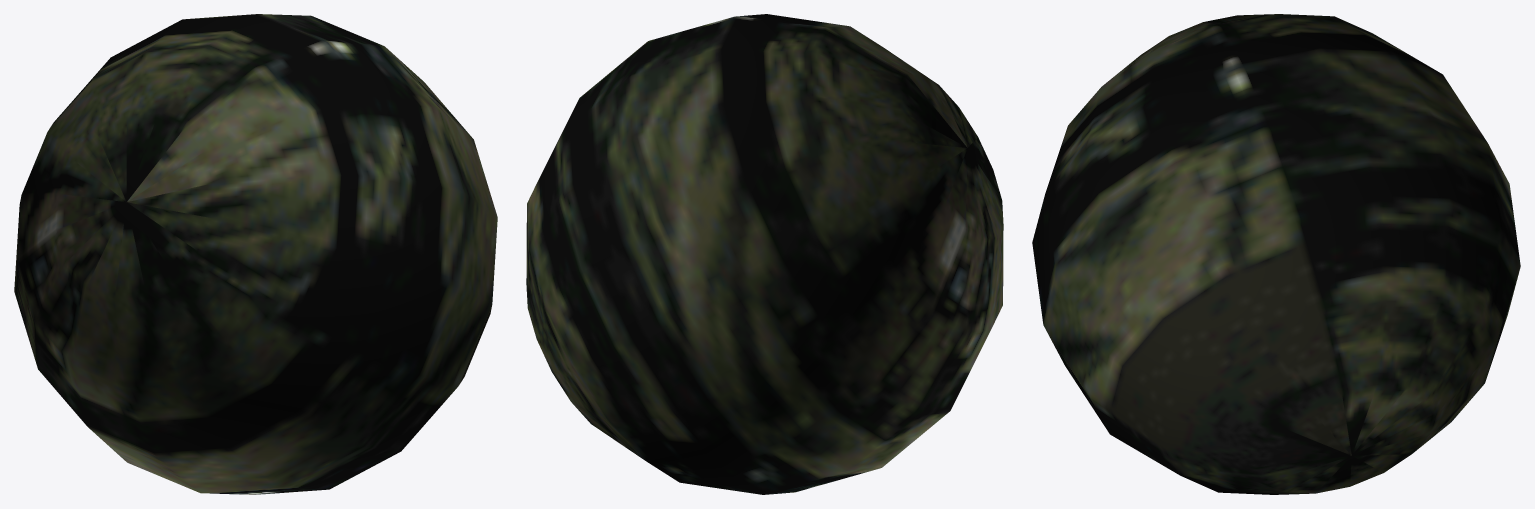
File: slime1.ico.obj
The picture shows the model from 3 angles, left to right: view 1: azimuth 30°, elevation 25°; view 2: azimuth 150°, elevation 25°; view 3: azimuth 270°, elevation 25°; orthographic projection.
Bounding box in the file's own units: 3.91 × 3.84 × 3.92.
